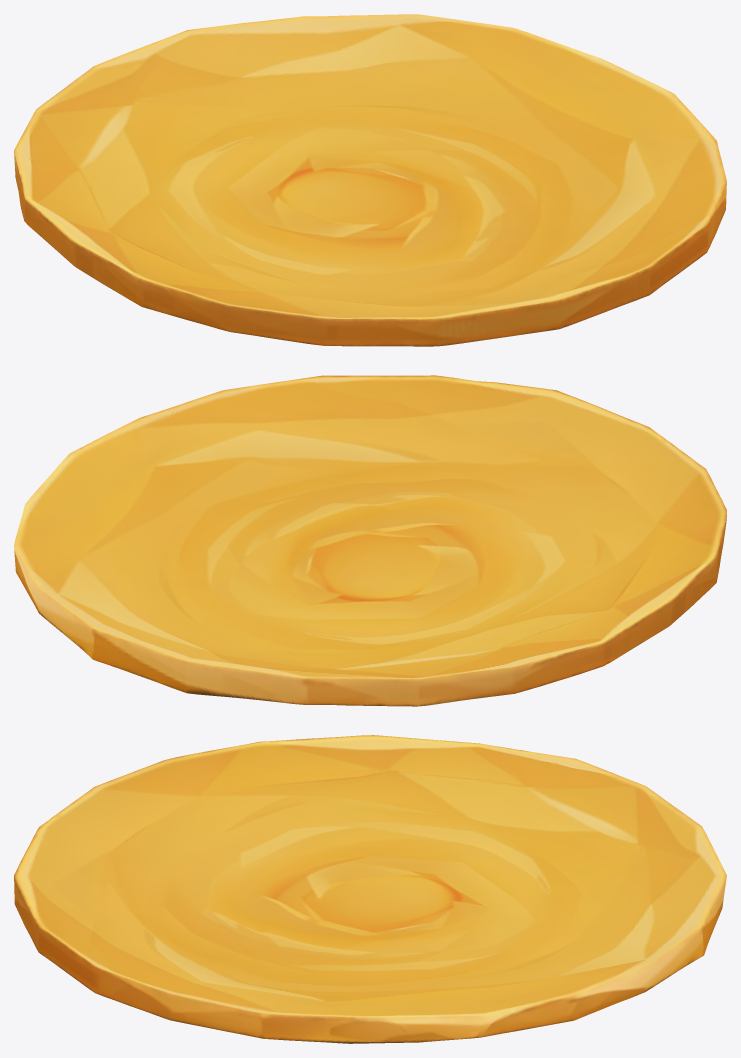
File: base_basic_shaded.fbx
3 renders of one model, top to bottom at view 1: azimuth 30°, elevation 25°; view 2: azimuth 150°, elevation 25°; view 3: azimuth 270°, elevation 25°, orthographic. The views are drawn at different scales.
Visible parts, largest first — view 1: model; view 2: model; view 3: model.
Part boxes in pixels (x1,y1,x2,y2): model: (14,14,726,346); model: (14,375,726,706); model: (14,735,726,1043).
Bounding box in the file's own units: 175 × 12.03 × 186.
